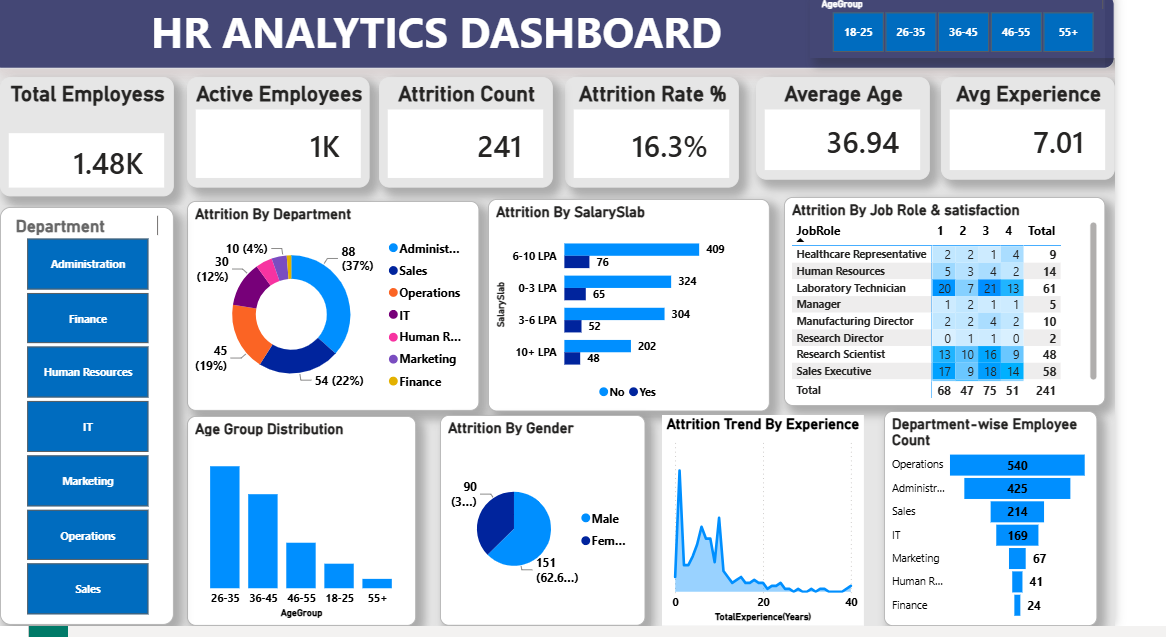

The page's visual inventory and layout, read from the dashboard file:
{"tool":"powerbi","page":{"name":"Page 1","canvas":[1280,720],"ordinal":0},"visuals":[{"type":"textbox","box":[10,0,1259,85],"z":0},{"type":"textbox","box":[0,0,1280,84.8],"z":1000},{"type":"cardVisual","title":"Total Employess ","fields":{"Data":["CountNonNull(HR_Analytics-4.EmpID)"]},"box":[10.3,95.1,197.9,136.2],"z":2000},{"type":"cardVisual","title":"Active Employees","fields":{"Data":["Sum(HR_Analytics-4.EmployeeCount)"]},"box":[223.6,95.1,208.2,125.9],"z":3000},{"type":"cardVisual","title":"Attrition Rate %","fields":{"Data":["HR_Analytics-4.Attrition Rate %"]},"box":[654.1,95.1,197.9,125.9],"z":4000},{"type":"cardVisual","title":"Average Age","fields":{"Data":["Avg(HR_Analytics-4.Age)"]},"box":[871.3,95.1,197.9,116.9],"z":5000},{"type":"cardVisual","title":"Avg Experience ","fields":{"Data":["Avg(HR_Analytics-4.YearsatCompany)"]},"box":[1082.1,95.1,197.9,116.9],"z":6000},{"type":"cardVisual","title":"Attrition Count  ","fields":{"Data":["Sum(HR_Analytics-4.Attrition Count )"]},"box":[442.1,95.1,197.9,125.9],"z":7000},{"type":"donutChart","title":"Attrition By Department ","fields":{"Category":["HR_Analytics-4.Department"],"Y":["Sum(HR_Analytics-4.Attrition Count )"]},"box":[223.3,235.8,332.7,239.2],"z":8000},{"type":"clusteredBarChart","title":"Attrition By SalarySlab","fields":{"Category":["HR_Analytics-4.SalarySlab"],"Y":["CountNonNull(HR_Analytics-4.EmpID)"],"Series":["HR_Analytics-4.Attrition"]},"box":[566.2,233.5,321.3,241.5],"z":9000},{"type":"pivotTable","title":"Attrition By Job Role & satisfaction","fields":{"Rows":["HR_Analytics-4.JobRole"],"Values":["Sum(HR_Analytics-4.Attrition Count )"],"Columns":["HR_Analytics-4.JobSatisfaction"]},"box":[903.4,231.3,365.7,238.1],"z":10000},{"type":"columnChart","title":"Age Group Distribution ","fields":{"Category":["HR_Analytics-4.AgeGroup"],"Y":["Sum(HR_Analytics-4.EmployeeCount)"]},"box":[223.3,480.8,260.9,239.2],"z":11000},{"type":"pieChart","title":"Attrition By Gender","fields":{"Category":["HR_Analytics-4.Gender"],"Y":["Sum(HR_Analytics-4.Attrition Count )"]},"box":[511.5,479.6,233.5,240.4],"z":12000},{"type":"areaChart","title":"Attrition Trend By Experience","fields":{"Category":["HR_Analytics-4.TotalExperience(Years)"],"Y2":["Sum(HR_Analytics-4.Attrition Count )"]},"box":[764.4,479.6,230.1,240.4],"z":13000},{"type":"funnel","title":"Department-wise Employee Count ","fields":{"Category":["HR_Analytics-4.Department"],"Y":["CountNonNull(HR_Analytics-4.EmpID)"]},"box":[1017.3,475.1,242.7,244.9],"z":14000},{"type":"slicer","fields":{"Values":["HR_Analytics-4.Department"]},"box":[10.3,242.7,198.2,476.2],"z":15000},{"type":"slicer","fields":{"Values":["HR_Analytics-4.AgeGroup"]},"box":[933,0,347.5,72.9],"z":16000}]}

Visuals, with their boxes in screenshot pixels (x1, y1, x2, y2), scaled from the page's 1280x720 canvas onto the 1166x637 screenshot:
textbox: [left=9, top=0, right=1156, bottom=75]
textbox: [left=0, top=0, right=1165, bottom=75]
"Total Employess " cardVisual: [left=9, top=84, right=190, bottom=205]
"Active Employees" cardVisual: [left=204, top=84, right=393, bottom=196]
"Attrition Rate %" cardVisual: [left=596, top=84, right=776, bottom=196]
"Average Age" cardVisual: [left=794, top=84, right=974, bottom=188]
"Avg Experience " cardVisual: [left=986, top=84, right=1165, bottom=188]
"Attrition Count  " cardVisual: [left=403, top=84, right=583, bottom=196]
"Attrition By Department " donutChart: [left=203, top=209, right=506, bottom=420]
"Attrition By SalarySlab" clusteredBarChart: [left=516, top=207, right=808, bottom=420]
"Attrition By Job Role & satisfaction" pivotTable: [left=823, top=205, right=1156, bottom=415]
"Age Group Distribution " columnChart: [left=203, top=425, right=441, bottom=636]
"Attrition By Gender" pieChart: [left=466, top=424, right=679, bottom=636]
"Attrition Trend By Experience" areaChart: [left=696, top=424, right=906, bottom=636]
"Department-wise Employee Count " funnel: [left=927, top=420, right=1148, bottom=636]
slicer - HR_Analytics-4.Department: [left=9, top=215, right=190, bottom=636]
slicer - HR_Analytics-4.AgeGroup: [left=850, top=0, right=1165, bottom=64]
